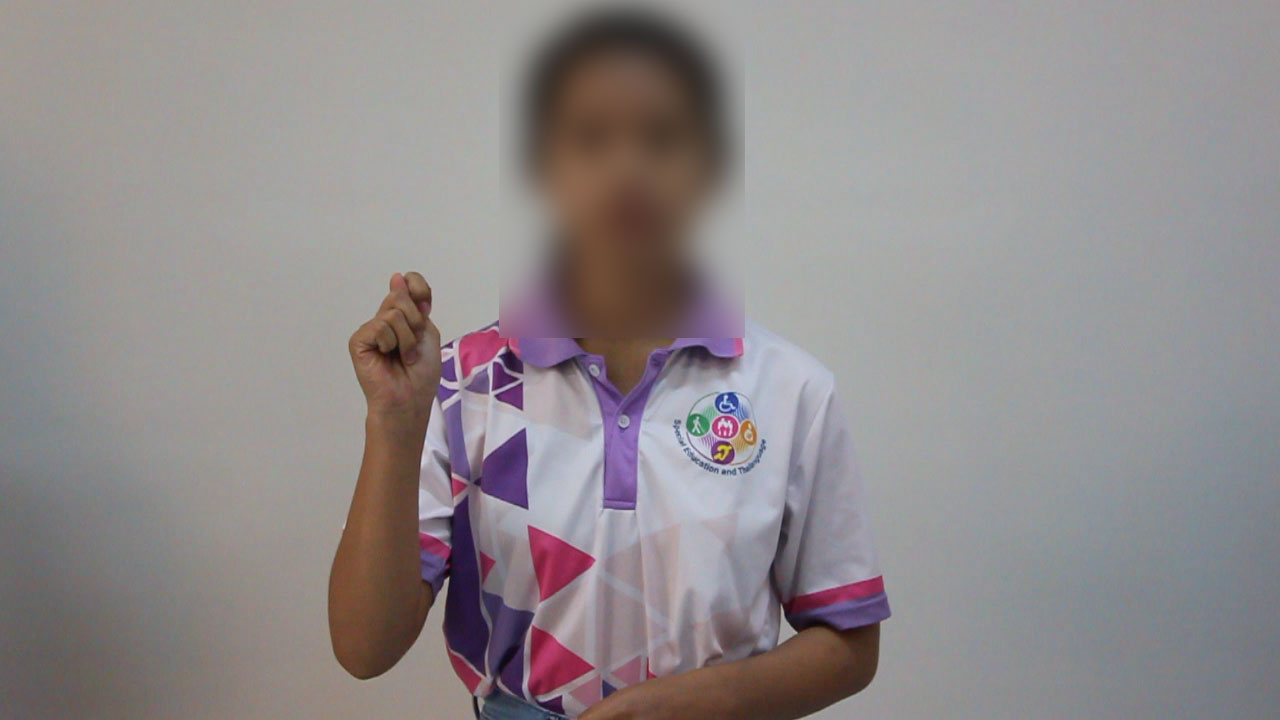tor: (338, 256, 478, 444)
